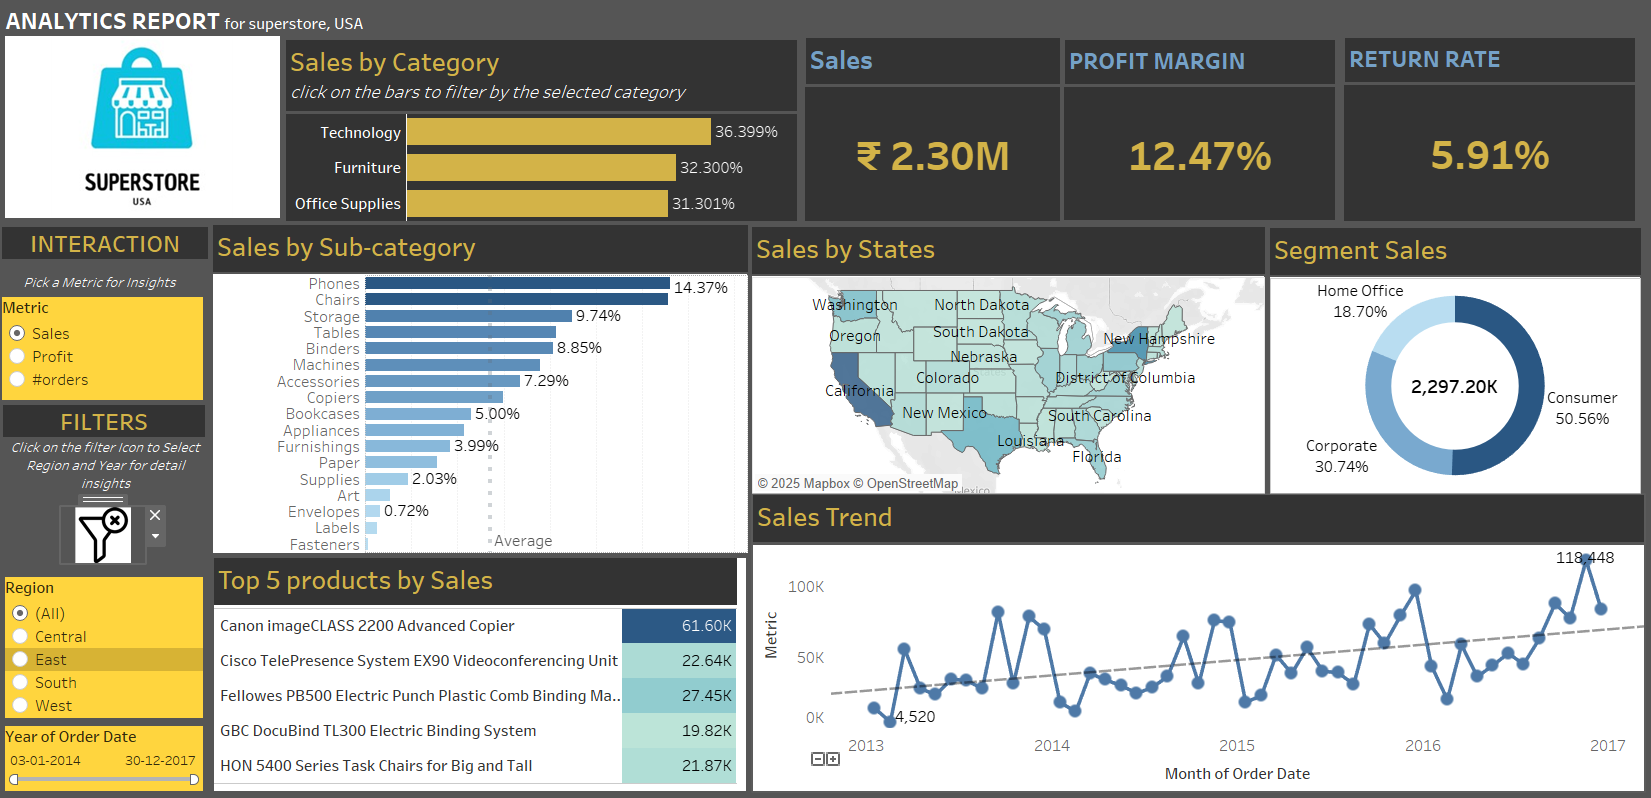

What the dashboard file says about the page in this screenshot:
{"tool":"tableau","page":{"name":"analytics report","canvas":[1000,1000],"units":"permille","ordinal":0},"visuals":[{"type":"text","box":[2.4,8.7,234.3,37.5]},{"type":"dashboard-object","box":[4.2,47.4,165.9,227.2]},{"type":"worksheet","title":"sales kpi","mark":"Automatic","box":[487,49.9,153.9,228.5]},{"type":"worksheet","title":"return rate kpi","mark":"Automatic","box":[812.3,49.9,175.6,228.5]},{"type":"worksheet","title":"sales by category","mark":"Automatic","rows":["Category"],"cols":["Calculation_848928567545716743"],"box":[173.8,52.4,308.4,226]},{"type":"worksheet","title":"profit margin kpi","mark":"Automatic","box":[643.3,52.4,163.6,224.7]},{"type":"worksheet","title":"SUBCATEGORY SALES","mark":"Automatic","rows":["Sub-Category"],"cols":["Calculation_848928567545716743"],"box":[129.9,283.4,322.7,409.5]},{"type":"text","box":[2.4,285.9,124.3,40]},{"type":"worksheet","title":"state sales","mark":"Automatic","box":[455,285.9,309.4,333.3]},{"type":"worksheet","title":"SEGMENT SALES","mark":"Pie","rows":["Calculation_295830236916600833","Calculation_295830236916600833"],"box":[767.4,287.1,224.2,332.1]},{"type":"text","box":[4.8,332.1,113.5,44.9]},{"type":"parameter","param":"[Parameters].[Parameter 2]","box":[2.4,373.3,121.1,128.6]},{"type":"text","box":[3,508.1,121.7,40]},{"type":"text","box":[2.4,548.1,125.3,68.7]},{"type":"worksheet","title":"sales trend","mark":"Circle","rows":["Calculation_848928567545716743","Calculation_848928567545716743"],"cols":["Order Date"],"box":[455.6,620.5,537.7,369.5]},{"type":"dashboard-object","box":[38,635.5,50.7,69.9]},{"type":"worksheet","title":"top 5 productsm by sales","mark":"Square","rows":["Product Name"],"box":[130.3,699.1,320.9,290.9]},{"type":"filter","title":"state sales","param":"[federated.08deozk18trvey1ddnl9j0db8r1z].[none:Region:nk]","box":[1.8,717.9,124.3,186]},{"type":"filter","title":"sales trend","param":"[federated.08deozk18trvey1ddnl9j0db8r1z].[none:Order Date:qk]","box":[1.8,903.9,124.3,91.1]}]}

Visuals, with their boxes on the dashboard's canvas, which has no fixed pixel size, in thousandths of its width and height (x1, y1, x2, y2). These are canvas units, not pixel positions in the 1651x798 screenshot, which may show the page scaled, cropped or inside an application window:
text: pyautogui.locateOnScreen(2, 9, 237, 46)
dashboard-object: pyautogui.locateOnScreen(4, 47, 170, 275)
"sales kpi" worksheet: pyautogui.locateOnScreen(487, 50, 641, 278)
"return rate kpi" worksheet: pyautogui.locateOnScreen(812, 50, 988, 278)
"sales by category" worksheet: pyautogui.locateOnScreen(174, 52, 482, 278)
"profit margin kpi" worksheet: pyautogui.locateOnScreen(643, 52, 807, 277)
"SUBCATEGORY SALES" worksheet: pyautogui.locateOnScreen(130, 283, 453, 693)
text: pyautogui.locateOnScreen(2, 286, 127, 326)
"state sales" worksheet: pyautogui.locateOnScreen(455, 286, 764, 619)
"SEGMENT SALES" worksheet (Pie marks): pyautogui.locateOnScreen(767, 287, 992, 619)
text: pyautogui.locateOnScreen(5, 332, 118, 377)
parameter: pyautogui.locateOnScreen(2, 373, 124, 502)
text: pyautogui.locateOnScreen(3, 508, 125, 548)
text: pyautogui.locateOnScreen(2, 548, 128, 617)
"sales trend" worksheet (Circle marks): pyautogui.locateOnScreen(456, 620, 993, 990)
dashboard-object: pyautogui.locateOnScreen(38, 636, 89, 705)
"top 5 productsm by sales" worksheet (Square marks): pyautogui.locateOnScreen(130, 699, 451, 990)
"state sales" filter: pyautogui.locateOnScreen(2, 718, 126, 904)
"sales trend" filter: pyautogui.locateOnScreen(2, 904, 126, 995)
